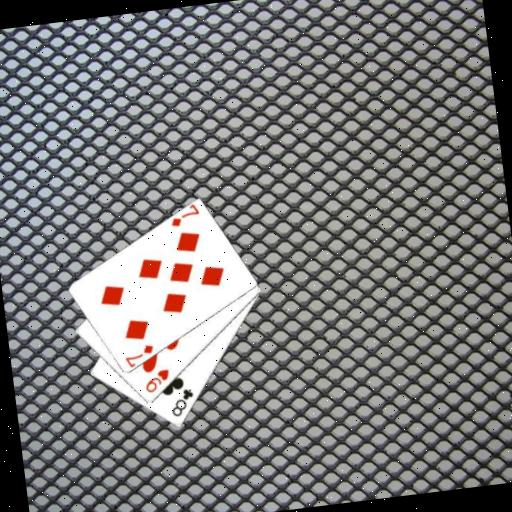7D: (120, 341, 157, 369), (166, 203, 202, 230)
8C: (167, 385, 198, 420)
9H: (140, 366, 173, 396)
